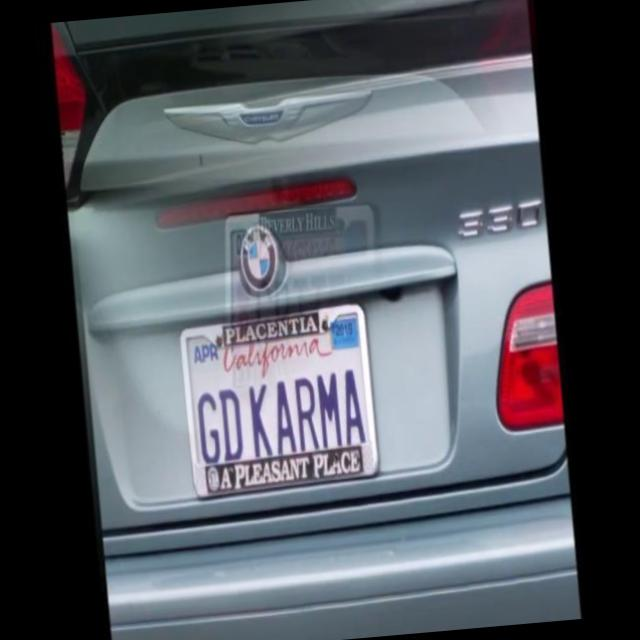LicensePlate: (172, 288, 396, 511)
